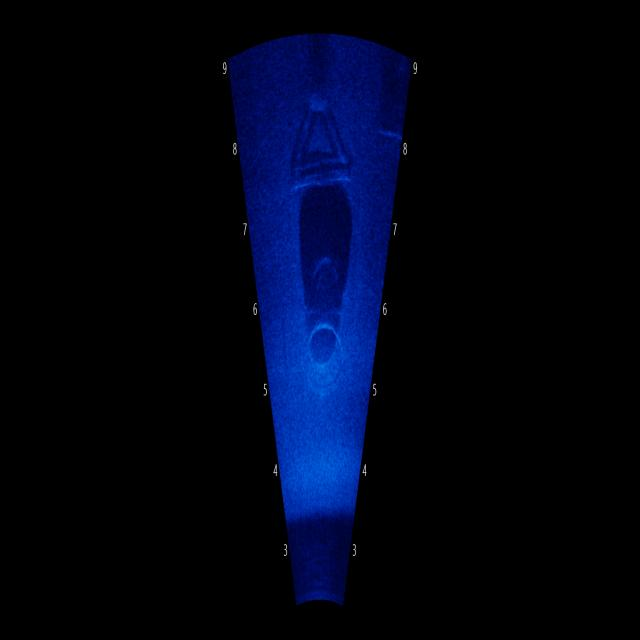circle: (292, 309, 355, 428)
triangle: (272, 64, 367, 190)
